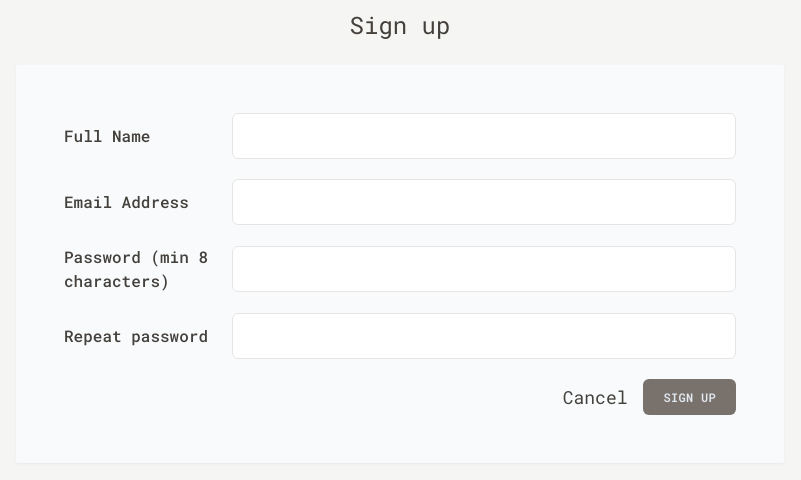
Test: sign up form tests › displays error if the passwords are too short
The width and height of the screenshot is (801, 480).
Type "Natalie" into the field named "fullName" next to "Full Name".
click(484, 136); type("Natalie")  # box [232,113,736,159]
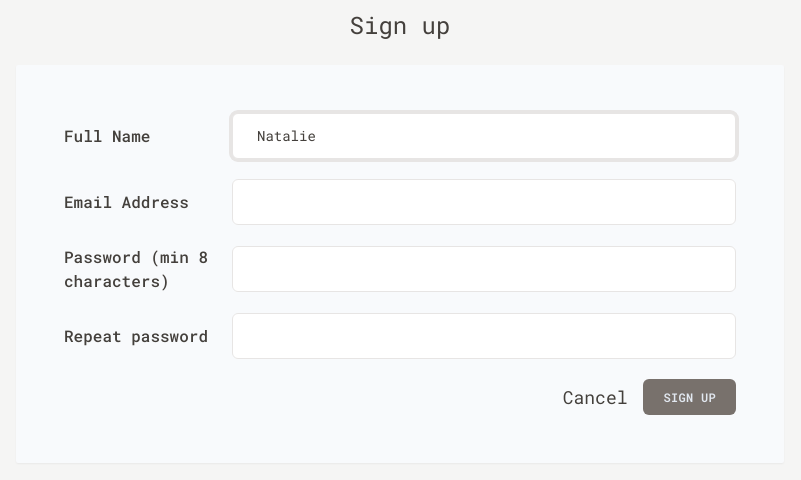
Type "natalie@example.com" into the field named "email" next to "Email Address".
click(484, 202); type("natalie@example.com")  # box [232,179,736,225]
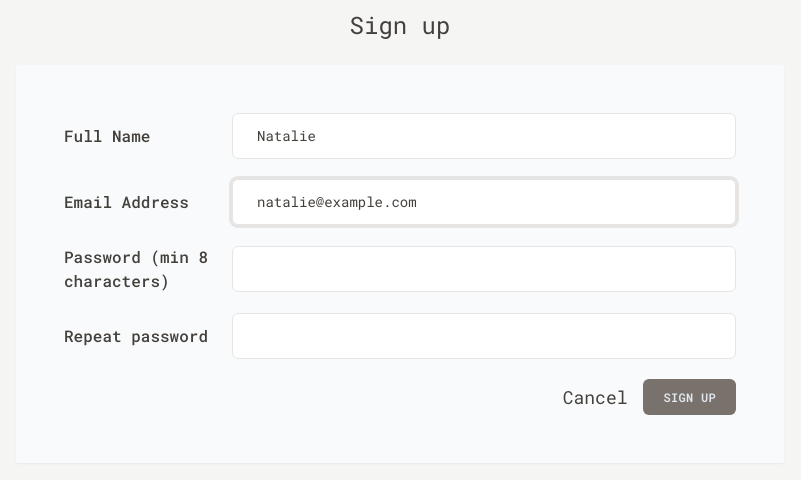
Type "1234567" into the password field named "password" next to "Password (min 8 characters)".
click(484, 269); type("1234567")  # box [232,246,736,292]
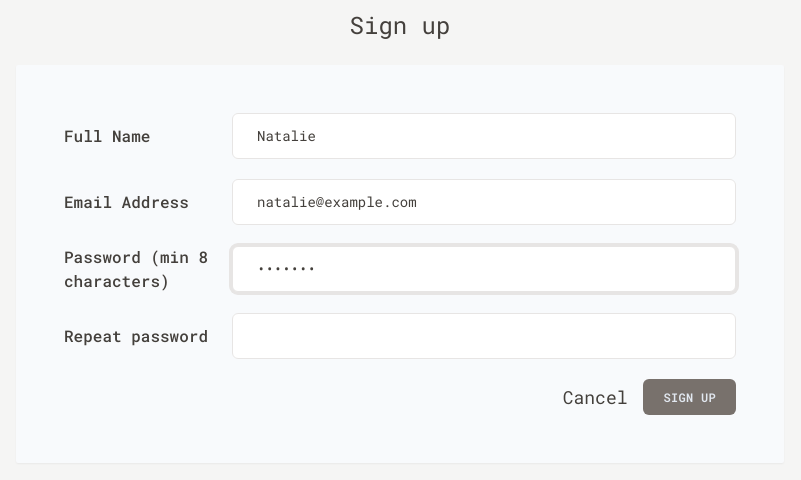
Type "1234567" into the password field named "passwordConfirm" next to "Repeat password".
click(484, 336); type("1234567")  # box [232,313,736,359]
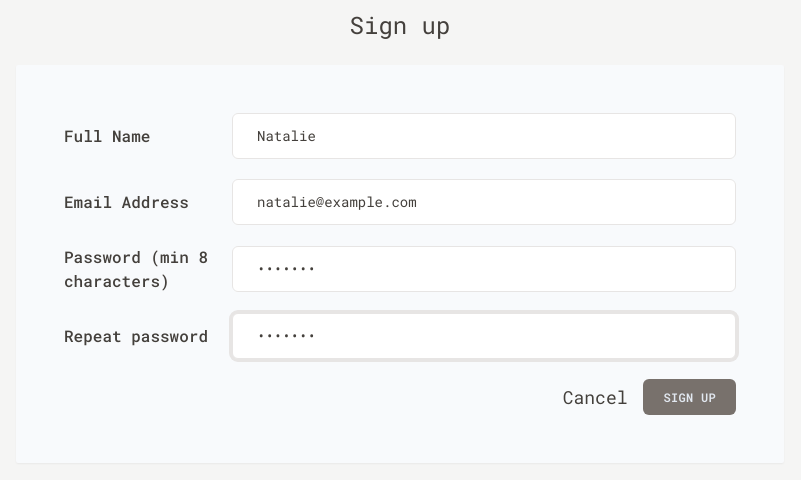
Click the button "Sign up".
click(691, 397)  # box [644,379,737,415]
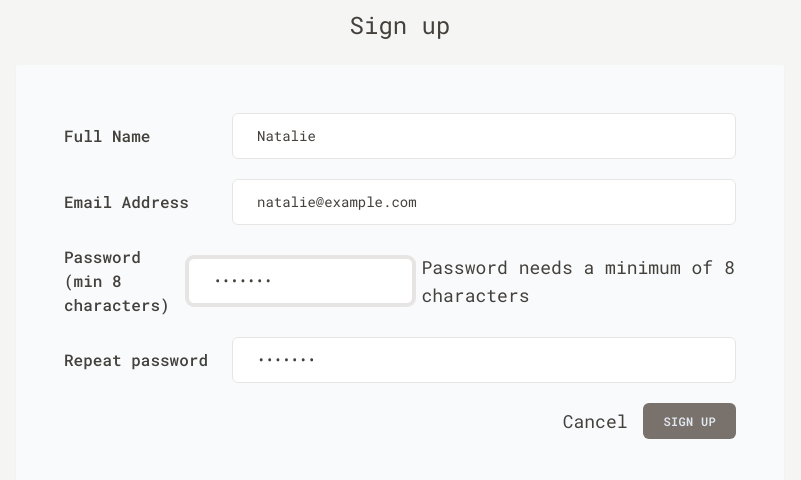
Check: the text "Password needs a minimum of 8 characters" is shown, box [422,253,736,309]
